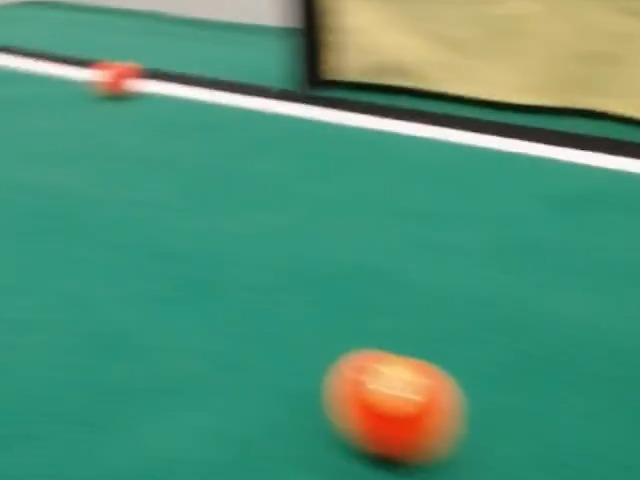Ball: (323, 350, 465, 464)
